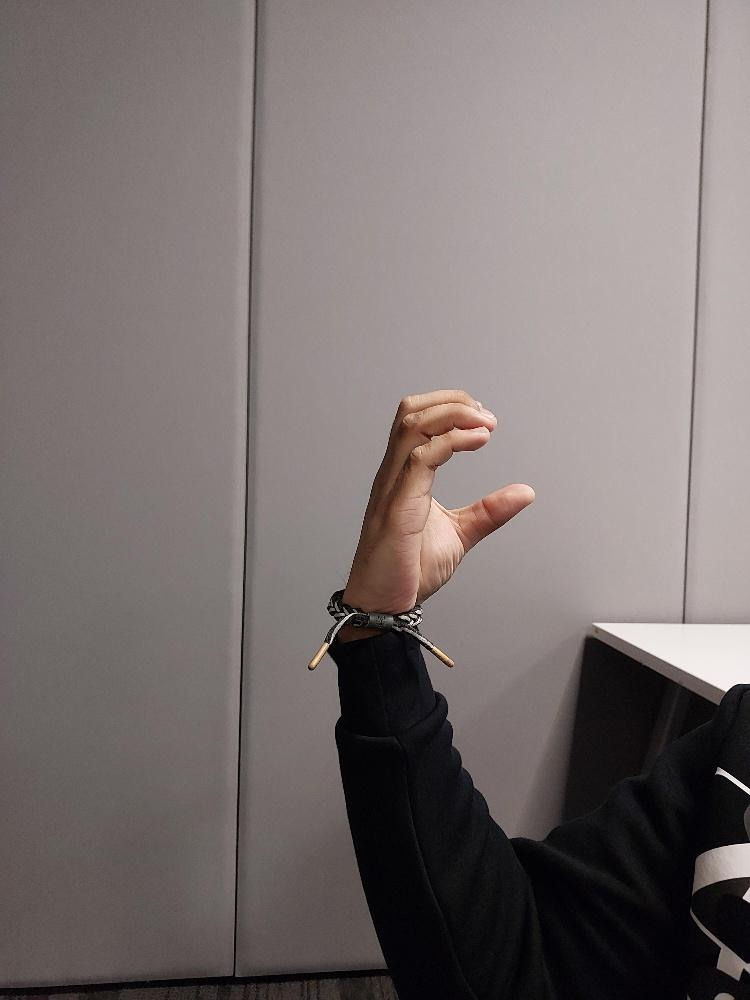c: (341, 386, 538, 613)
